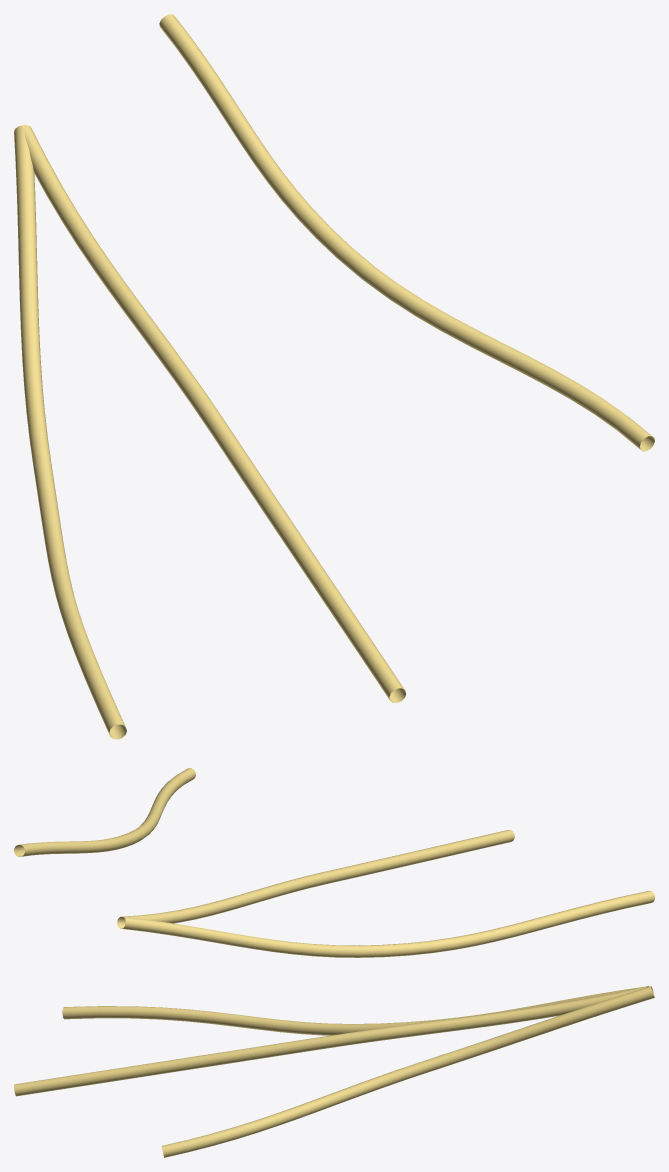
The picture shows the model from 3 angles, top to bottom: view 1: azimuth 30°, elevation 25°; view 2: azimuth 150°, elevation 25°; view 3: azimuth 270°, elevation 25°; orthographic projection. The views are drawn at different scales.
Visible parts, largest first — view 1: ZA_7ef8e6e96f9ef65b; view 2: ZA_7ef8e6e96f9ef65b; view 3: ZA_7ef8e6e96f9ef65b.
Boxes of the visible parts, left/top/right/bottom form: ZA_7ef8e6e96f9ef65b: left=14, top=14, right=654, bottom=739; ZA_7ef8e6e96f9ef65b: left=14, top=768, right=654, bottom=957; ZA_7ef8e6e96f9ef65b: left=14, top=986, right=654, bottom=1157.
Size of the model in its own units: 0.0388 by 0.0171 by 0.0519.
